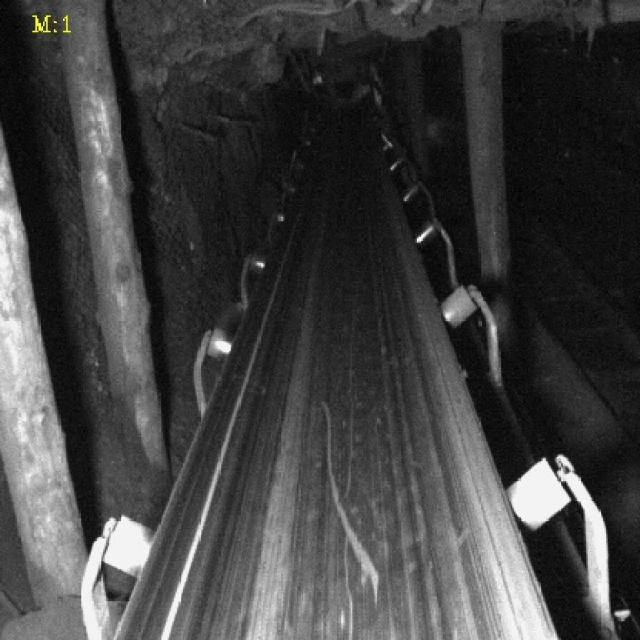bolt: (314, 391, 386, 595)
